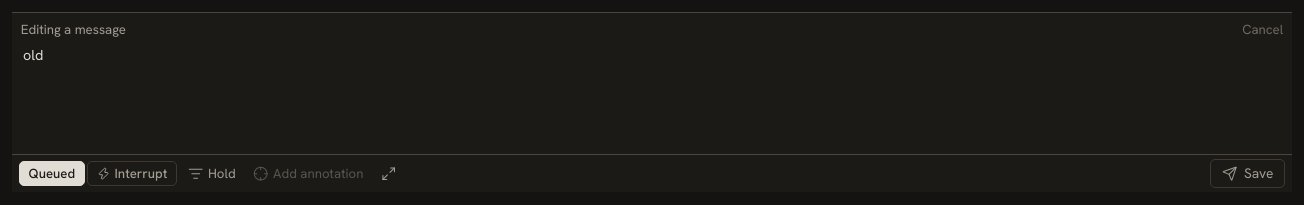
Test: AnnotationComposer › the edit and reply banners show, and cancel them
Expected: the element with test id "composer-editing" shows "Editing a message", [21, 21, 126, 38]
Expected: the button with test id "composer-send" reads "Save", [1210, 159, 1285, 188]
Click the button with test id "composer-edit-cancel" at (1263, 30), box [1242, 20, 1283, 39]
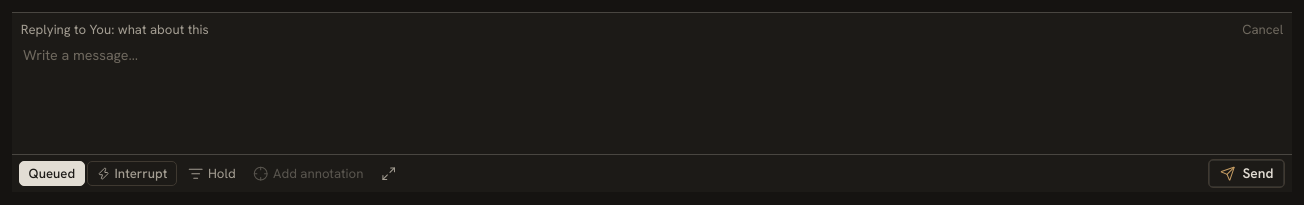
Result: the element with test id "composer-editing" is gone
Result: the element with test id "composer-reply-to" shows "Replying to You: what about this" at [12, 13, 1292, 39]
Click the button with test id "composer-reply-cancel" at (1263, 30), box [1242, 20, 1283, 39]
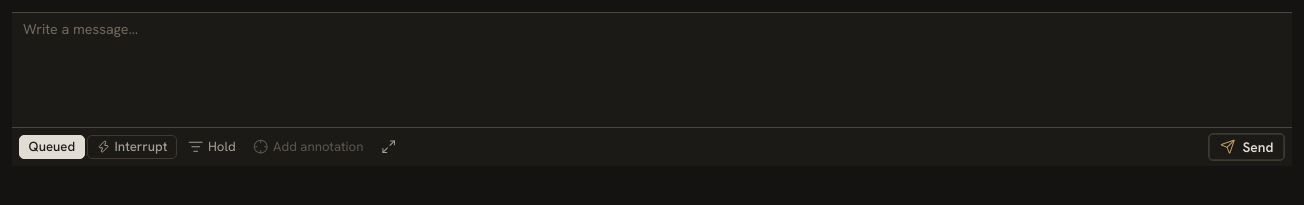
Result: the element with test id "composer-reply-to" is gone
